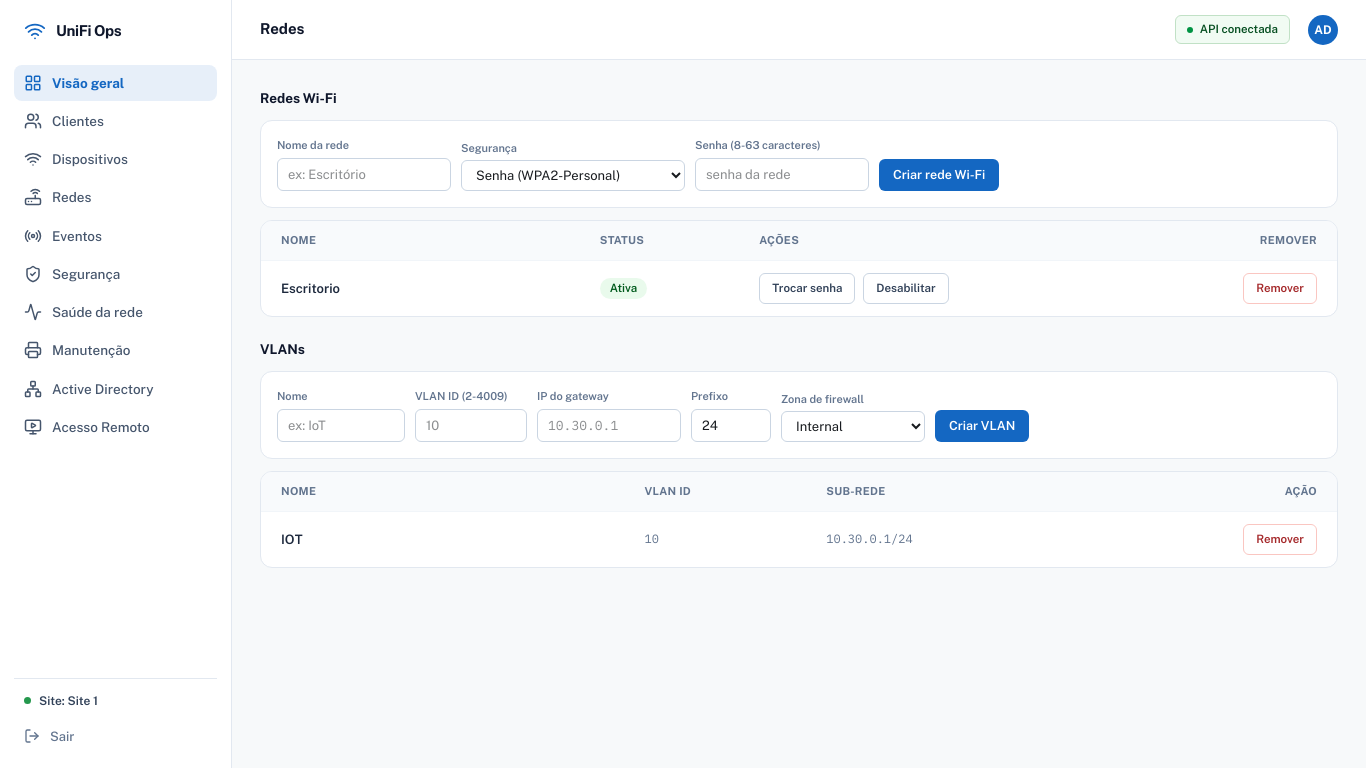
it: Networks page › does not resurrect a just-deleted VLAN with a stale in-flight poll response
Expected: the text "IOT" is shown, [281,532,303,547]
What coordinates should you click on to do the following:
click the button "Remover" in the row of "10.30.0.1/24"
I would click on:
 (1280, 539)
Its box is [1243,524,1317,555].
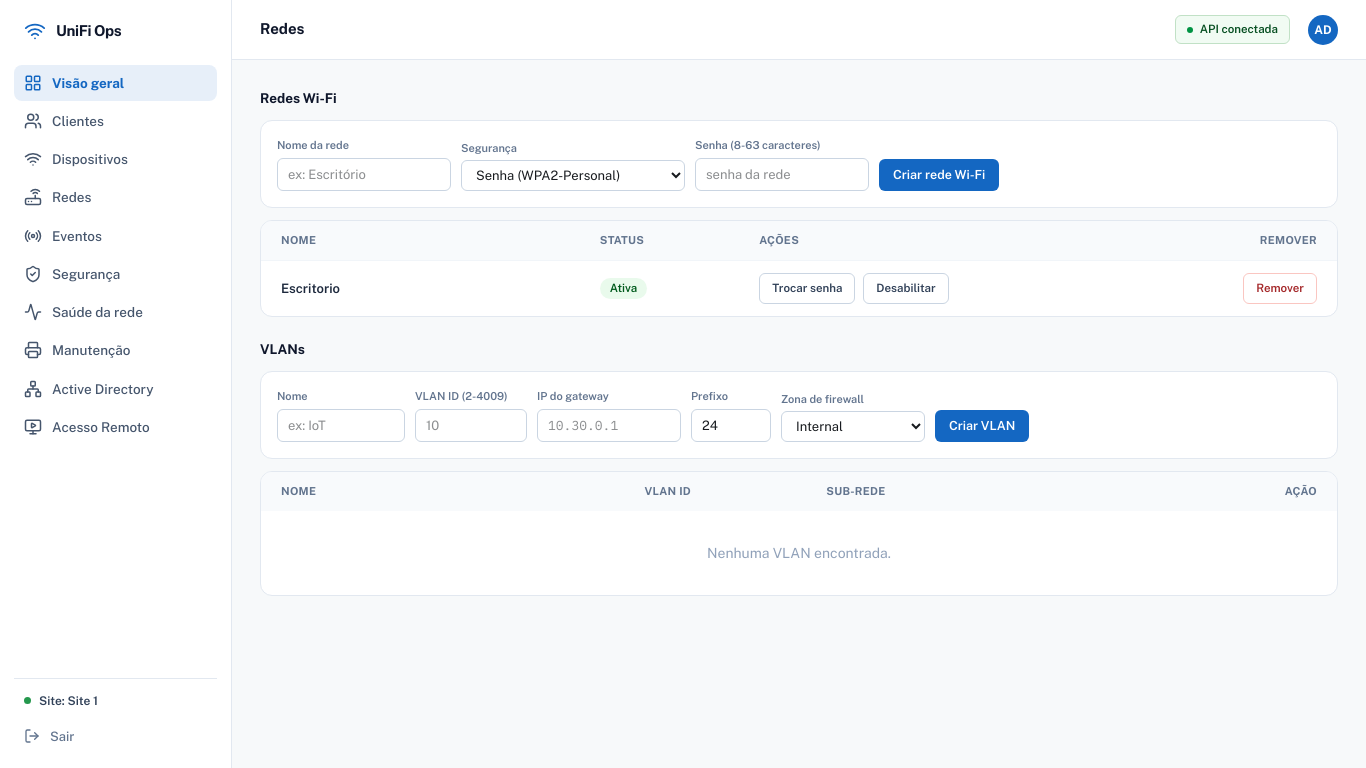
Expected: the text "Nenhuma VLAN encontrada." is shown, [707,545,891,561]
